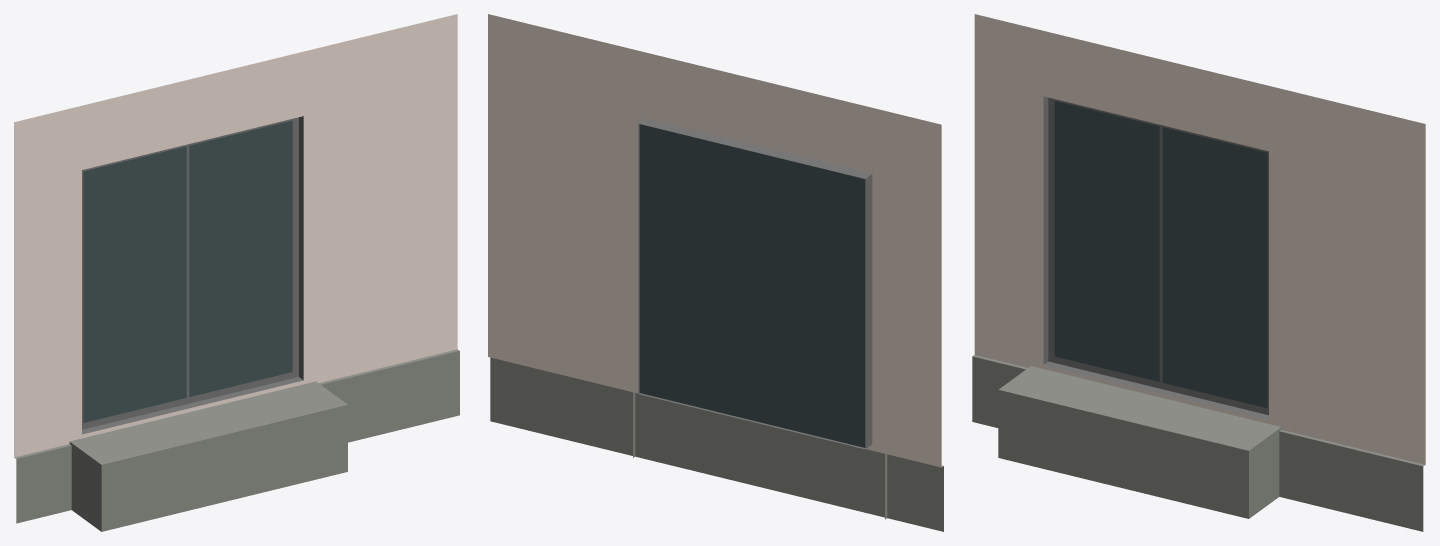
The picture shows the model from 3 angles, left to right: view 1: azimuth 30°, elevation 25°; view 2: azimuth 150°, elevation 25°; view 3: azimuth 330°, elevation 25°; orthographic projection. The views are drawn at different scales.
Parts seen in each view (by area): view 1: a2001/200/base-w1; view 2: a2001/200/base-w1; view 3: a2001/200/base-w1.
Part boxes in pixels (x1,y1,x2,y2): a2001/200/base-w1: [14, 14, 459, 531]; a2001/200/base-w1: [488, 14, 943, 531]; a2001/200/base-w1: [972, 14, 1425, 531].
Bounding box in the file's own units: 3.6 × 3.1 × 0.55.
